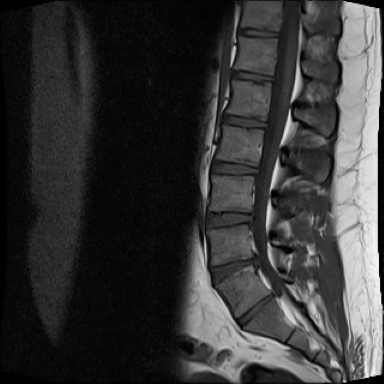Degenerative Disc Disease (DDD): (233, 291, 277, 331)
Lumbar Disc Bulge (LDB): (205, 247, 266, 287)
Normal IVD: (201, 204, 255, 231), (216, 108, 270, 132), (208, 155, 262, 179), (226, 63, 279, 85), (233, 25, 283, 40)
Spinal Stenosis (SS): (235, 243, 269, 285)
